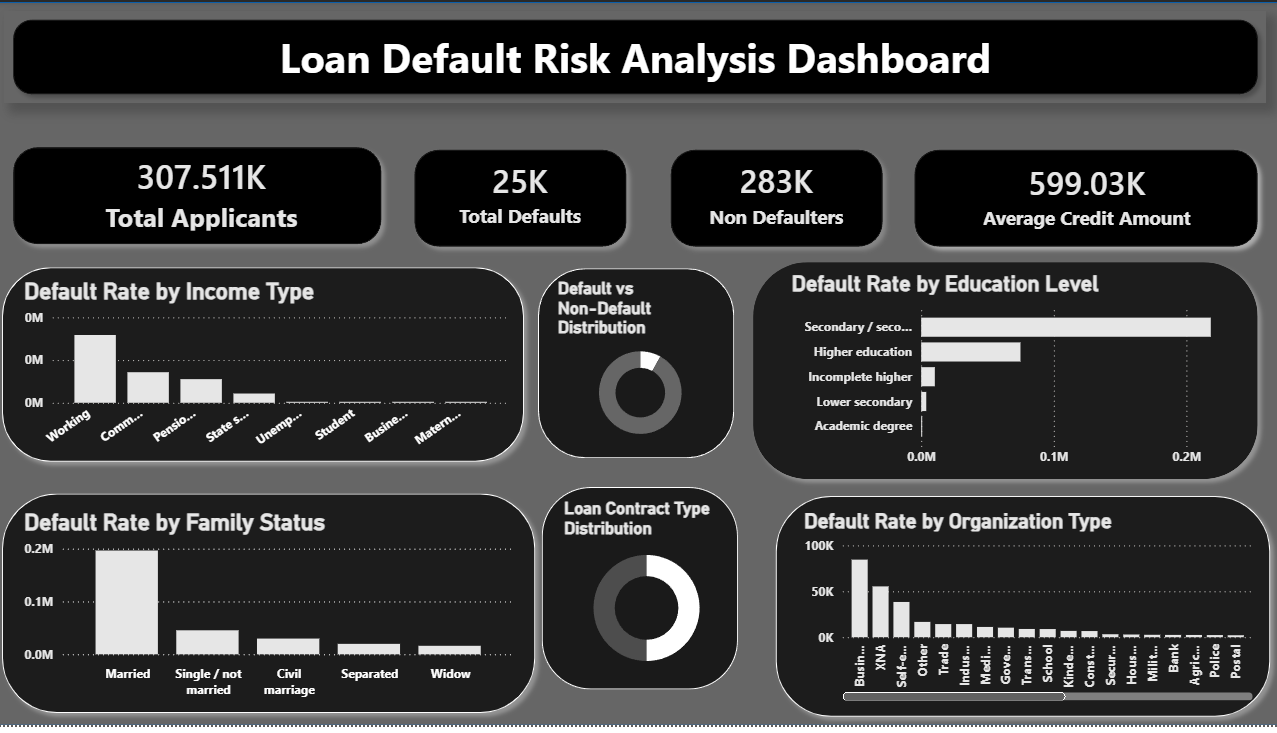

Layout of this report page (visuals, bound fields, positions):
{"tool":"powerbi","page":{"name":"Page 1","canvas":[1280,720],"ordinal":0},"visuals":[{"type":"shape","box":[0,0,1280,720.3],"z":0},{"type":"shape","box":[0,255,537.4,211.5],"z":31},{"type":"shape","box":[747.6,250,520,233.9],"z":62},{"type":"shape","box":[0,480.2,548.6,236.4],"z":125},{"type":"shape","box":[770,482.7,510,237.6],"z":250},{"type":"shape","box":[542.4,265,195.3,189.1],"z":500},{"type":"shape","box":[546.1,482.7,195.3,201.5],"z":1000},{"type":"shape","box":[11.2,8.7,1256.4,92.1],"z":2000},{"type":"shape","box":[410.5,138.1,228.9,114.4],"z":3000},{"type":"shape","box":[665.5,138.1,228.9,114.4],"z":4000},{"type":"shape","box":[908.1,138.1,359.5,114.4],"z":5000},{"type":"shape","box":[11.2,135.6,384.4,114.4],"z":6000},{"type":"cardVisual","fields":{"Data":["CountNonNull(loan_clean_data.AMT_ANNUITY)"]},"box":[19.9,135.6,375.7,109.5],"z":7000},{"type":"cardVisual","fields":{"Data":["Avg(loan_clean_data.AMT_CREDIT)"]},"box":[903.1,138.1,371.9,109.5],"z":8000},{"type":"cardVisual","fields":{"Data":["loan_clean_data.TotalDefaults"]},"box":[410.5,138.1,228.9,104.5],"z":9000},{"type":"cardVisual","fields":{"Data":["loan_clean_data.TotalNoDefault"]},"box":[665.5,138.1,228.9,105.7],"z":10000},{"type":"clusteredColumnChart","title":"Default Rate by Income Type","fields":{"Y":["CountNonNull(loan_clean_data.TARGET)"],"Category":["loan_clean_data.NAME_INCOME_TYPE"]},"box":[26.1,273.7,492.6,180.4],"z":11000},{"type":"clusteredBarChart","title":"Default Rate by Education Level","fields":{"Category":["loan_clean_data.NAME_EDUCATION_TYPE"],"Y":["CountNonNull(loan_clean_data.TARGET)"]},"box":[789.9,267.5,483.9,204],"z":12000},{"type":"lineClusteredColumnComboChart","title":"Default Rate by Family Status","fields":{"Category":["loan_clean_data.NAME_FAMILY_STATUS"],"Y":["CountNonNull(loan_clean_data.TARGET)"]},"box":[26.1,503.8,498.8,196.5],"z":13000},{"type":"lineStackedColumnComboChart","title":"Default Rate by Organization Type","fields":{"Category":["loan_clean_data.ORGANIZATION_TYPE"],"Y":["CountNonNull(loan_clean_data.TARGET)"]},"box":[802.4,503.8,456.5,196.5],"z":14000},{"type":"donutChart","title":"Default vs Non-Default Distribution","fields":{"Y":["loan_clean_data.TotalDefaults","loan_clean_data.TotalNoDefault"]},"box":[557.3,274.9,174.2,170.4],"z":15000},{"type":"donutChart","title":"Loan Contract Type Distribution","fields":{"Y":["CountNonNull(loan_clean_data.NAME_CONTRACT_TYPE)","CountNonNull(loan_clean_data.TARGET)"]},"box":[563.5,493.9,174.2,180.4],"z":16000}]}

Visuals, with their boxes in screenshot pixels (x1, y1, x2, y2), scaled from the page's 1280x720 canvas onto the 1277x733 screenshot:
shape: [0, 0, 1276, 732]
shape: [0, 260, 536, 475]
shape: [746, 255, 1265, 493]
shape: [0, 489, 547, 730]
shape: [768, 491, 1276, 732]
shape: [541, 270, 736, 462]
shape: [545, 491, 740, 697]
shape: [11, 9, 1265, 103]
shape: [410, 141, 638, 257]
shape: [664, 141, 892, 257]
shape: [906, 141, 1265, 257]
shape: [11, 138, 395, 255]
cardVisual - CountNonNull(loan_clean_data.AMT_ANNUITY): [20, 138, 395, 250]
cardVisual - Avg(loan_clean_data.AMT_CREDIT): [901, 141, 1272, 252]
cardVisual - loan_clean_data.TotalDefaults: [410, 141, 638, 247]
cardVisual - loan_clean_data.TotalNoDefault: [664, 141, 892, 248]
"Default Rate by Income Type" clusteredColumnChart: [26, 279, 517, 462]
"Default Rate by Education Level" clusteredBarChart: [788, 272, 1271, 480]
"Default Rate by Family Status" lineClusteredColumnComboChart: [26, 513, 524, 713]
"Default Rate by Organization Type" lineStackedColumnComboChart: [801, 513, 1256, 713]
"Default vs Non-Default Distribution" donutChart: [556, 280, 730, 453]
"Loan Contract Type Distribution" donutChart: [562, 503, 736, 686]
